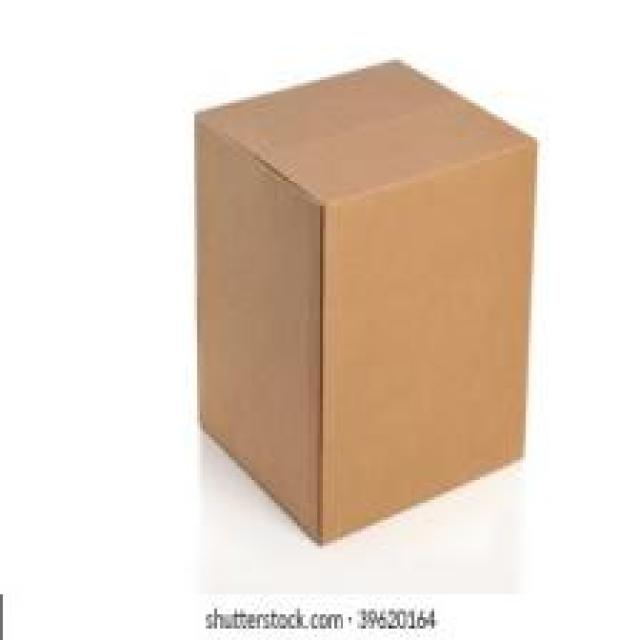box: (192, 56, 539, 547)
